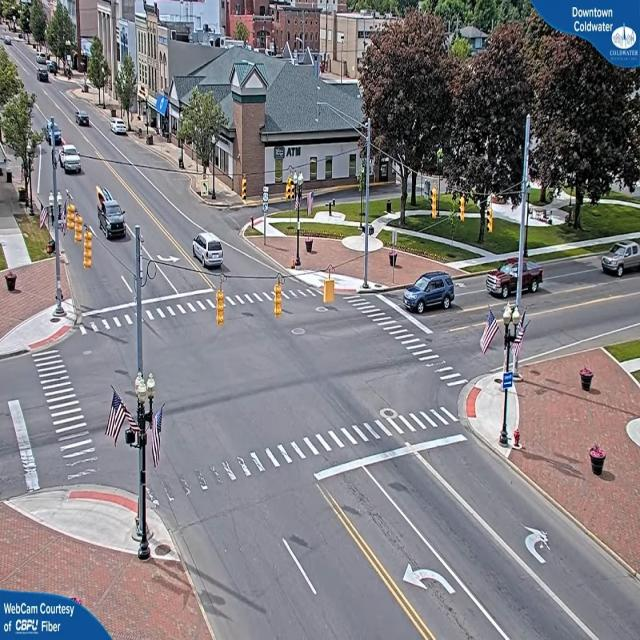car: (486, 257, 544, 300), (403, 271, 456, 313), (98, 190, 129, 240), (600, 241, 640, 278), (190, 232, 226, 268), (57, 146, 83, 174), (111, 120, 130, 138), (76, 113, 92, 128), (39, 66, 52, 82)
